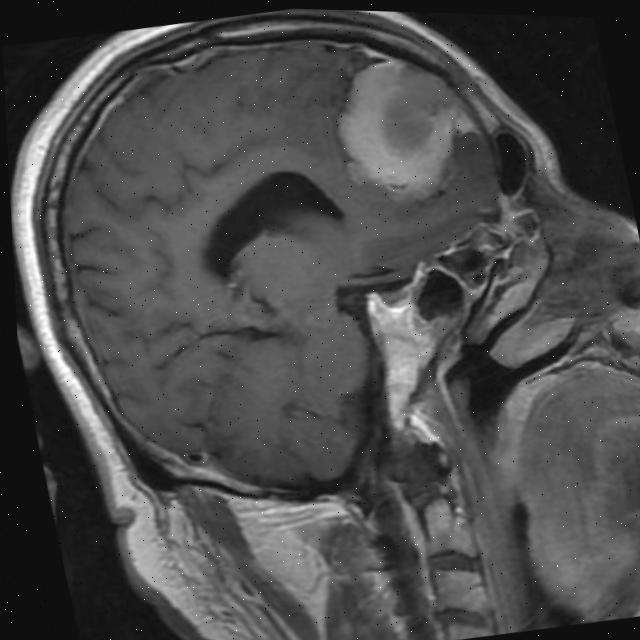Meningioma: (318, 45, 497, 221)
